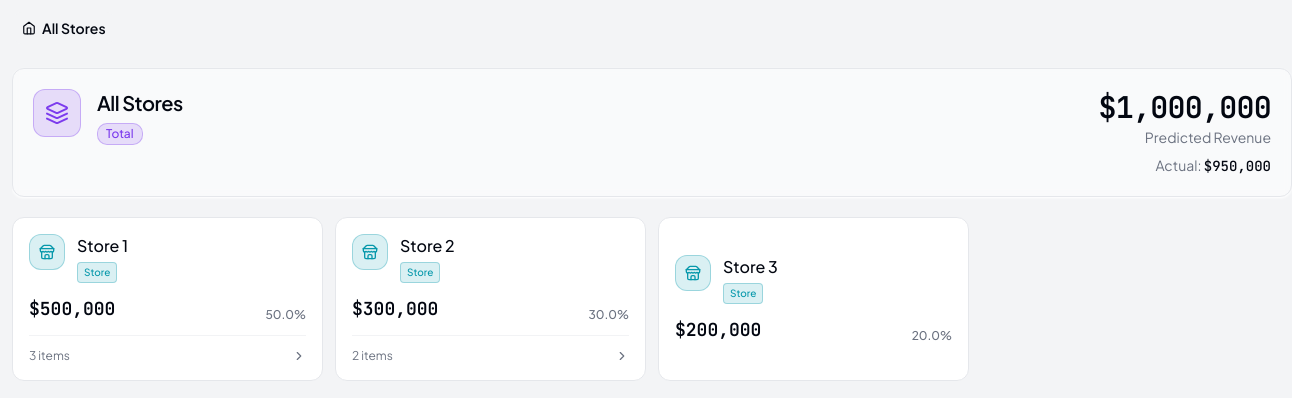
Scenario: HierarchyDrilldown › Breadcrumb Navigation › updates breadcrumb on drill down
This screenshot has width=1292, height=398.
Click the button "Store 1 Store $500,000 50.0% 3 items" at (47, 252), box [12,217,323,381]
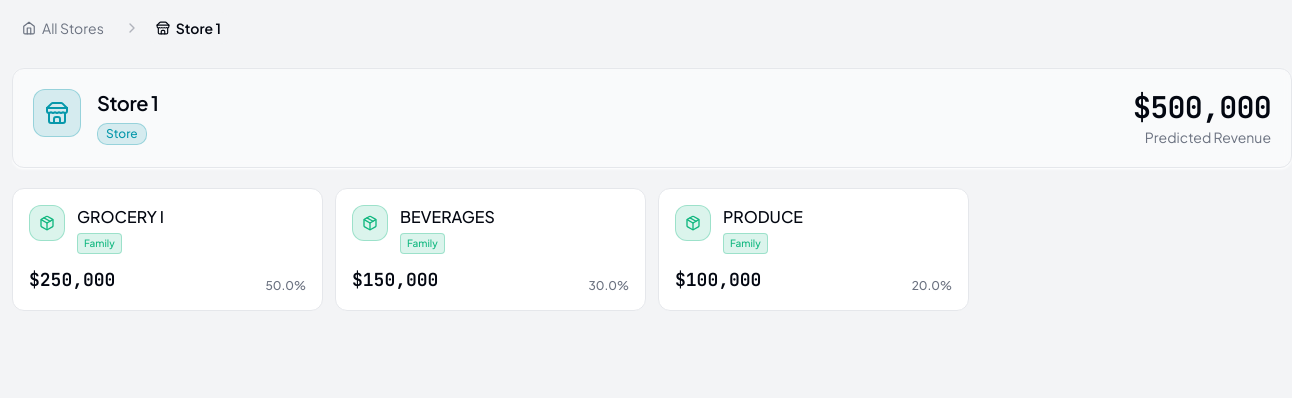
Expected: the navigation bar shows "All Stores", [12,12,114,44]
Now the navigation bar shows "Store 1", box [146,12,231,44]
